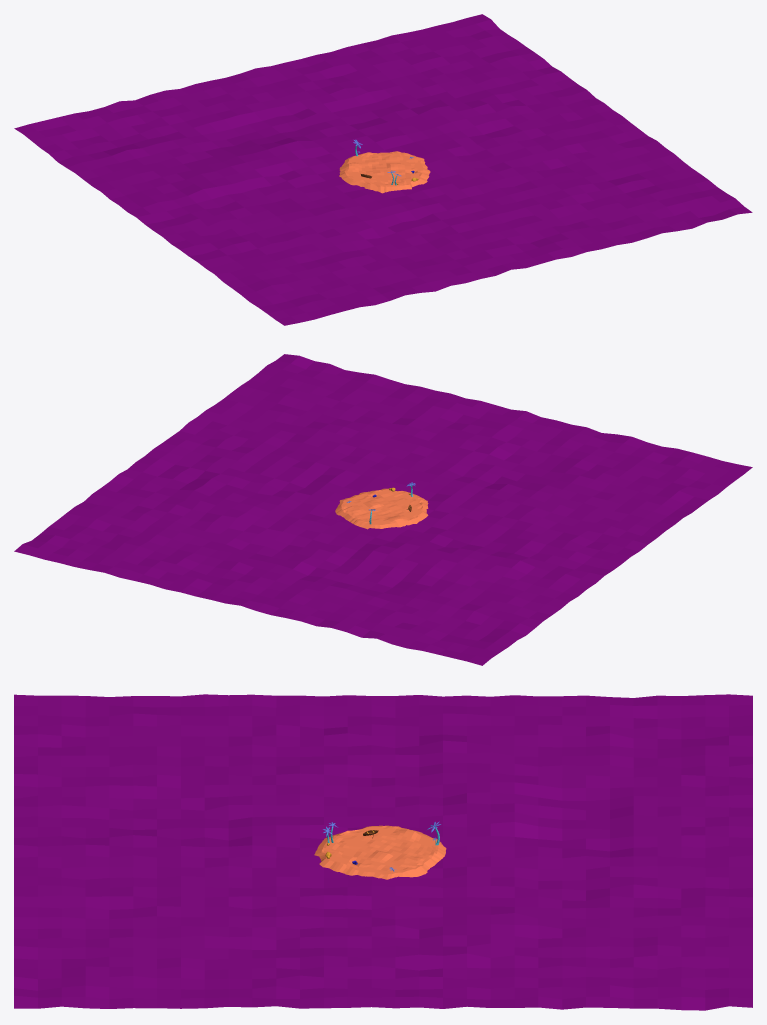
Rendered from Area1.fbx.
3 views of the same model, one above another, from view 1: azimuth 30°, elevation 25°; view 2: azimuth 150°, elevation 25°; view 3: azimuth 270°, elevation 25° (orthographic). The views are drawn at different scales.
Visible parts, largest first — view 1: Plane, Circle; view 2: Plane, Circle; view 3: Plane, Circle.
Part boxes in pixels (<box>): Plane: <box>14,14,752,325</box>; Circle: <box>339,151,430,193</box>; Plane: <box>14,354,752,665</box>; Circle: <box>335,488,428,529</box>; Plane: <box>14,694,752,1010</box>; Circle: <box>314,825,446,879</box>.
Bounding box in the file's own units: 65816 × 2854 × 65816.
